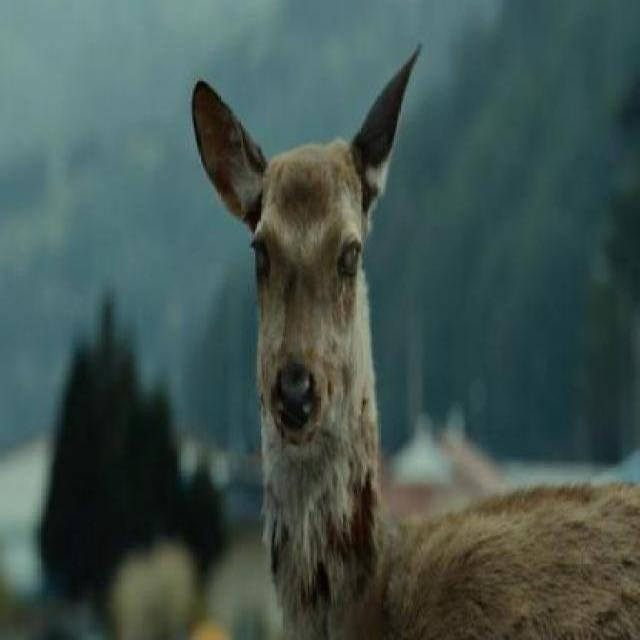deer: (174, 21, 638, 639)
